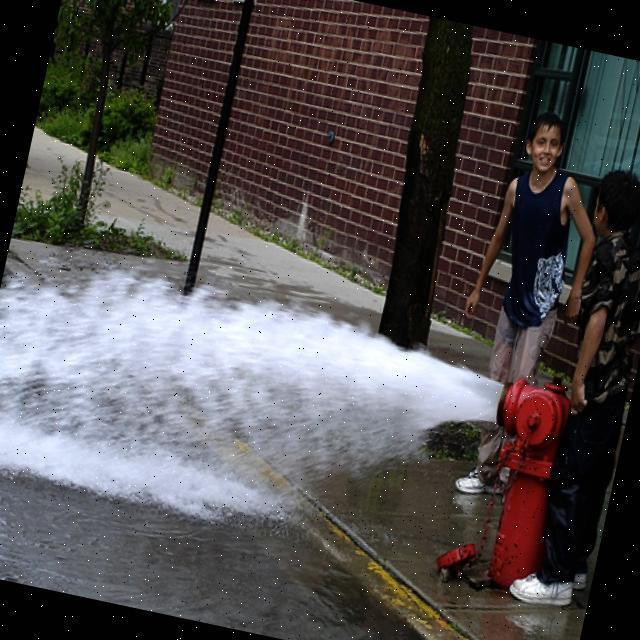fire_hydrant: (431, 356, 581, 597)
